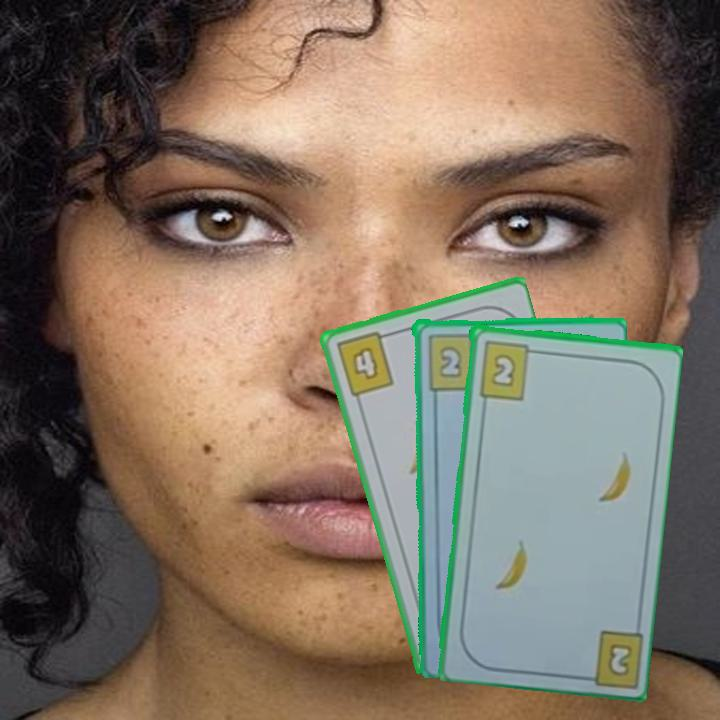2b: (475, 337, 541, 402), (424, 330, 485, 392), (605, 639, 635, 676)
4b: (332, 328, 397, 399)
